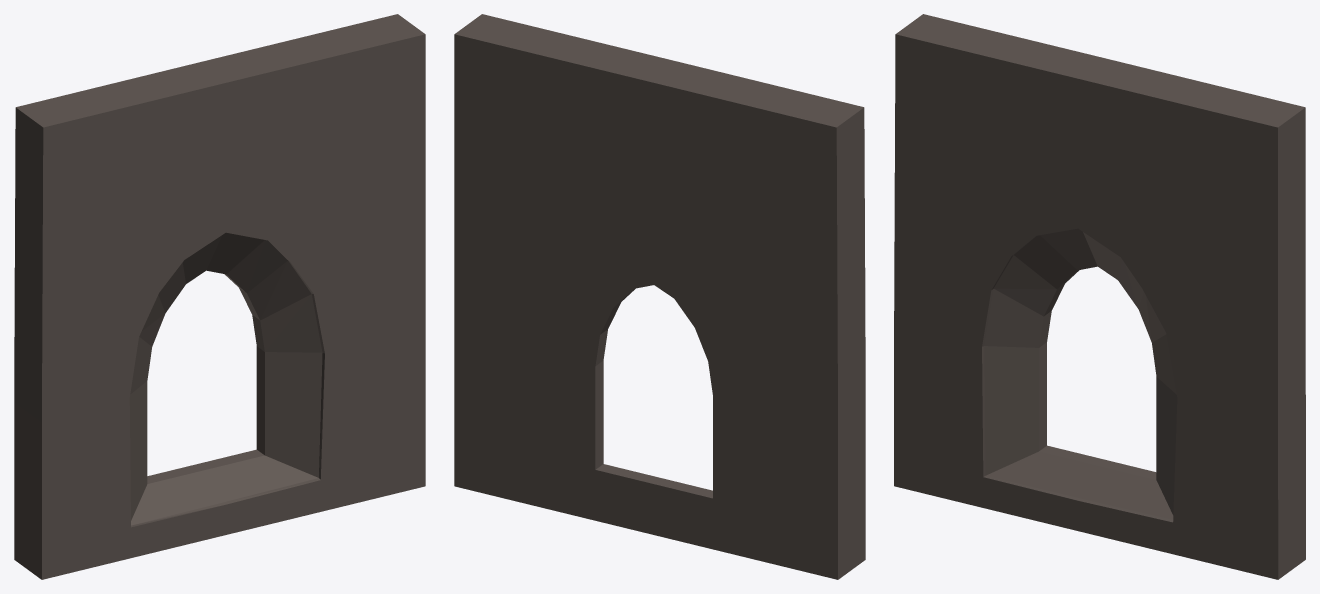
The model's file is MCastle_SquareWalls_ArchedWindow_00.FBX.
3 views of the same model, side by side, from view 1: azimuth 30°, elevation 25°; view 2: azimuth 150°, elevation 25°; view 3: azimuth 330°, elevation 25° (orthographic).
Visible parts, largest first — view 1: MCastle_SquareWalls_ArchedWindow_00_LOD0; view 2: MCastle_SquareWalls_ArchedWindow_00_LOD0; view 3: MCastle_SquareWalls_ArchedWindow_00_LOD0.
Part boxes in pixels (x1=…): MCastle_SquareWalls_ArchedWindow_00_LOD0: x1=14, y1=14, x2=425, y2=579; MCastle_SquareWalls_ArchedWindow_00_LOD0: x1=454, y1=14, x2=865, y2=579; MCastle_SquareWalls_ArchedWindow_00_LOD0: x1=894, y1=14, x2=1305, y2=579.
Size of the model in its own units: 4 by 4.5 by 0.5002.
